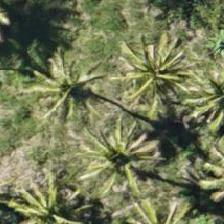coconut_tree: (114, 29, 204, 119), (8, 50, 98, 140), (0, 163, 89, 223), (165, 43, 223, 133), (96, 170, 186, 223)
